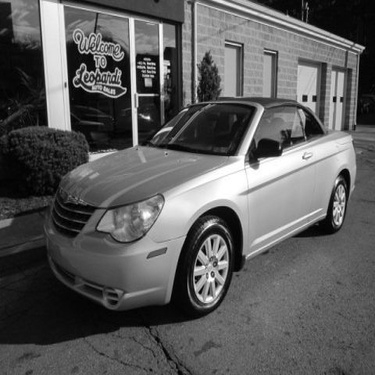car: (36, 87, 361, 322)
